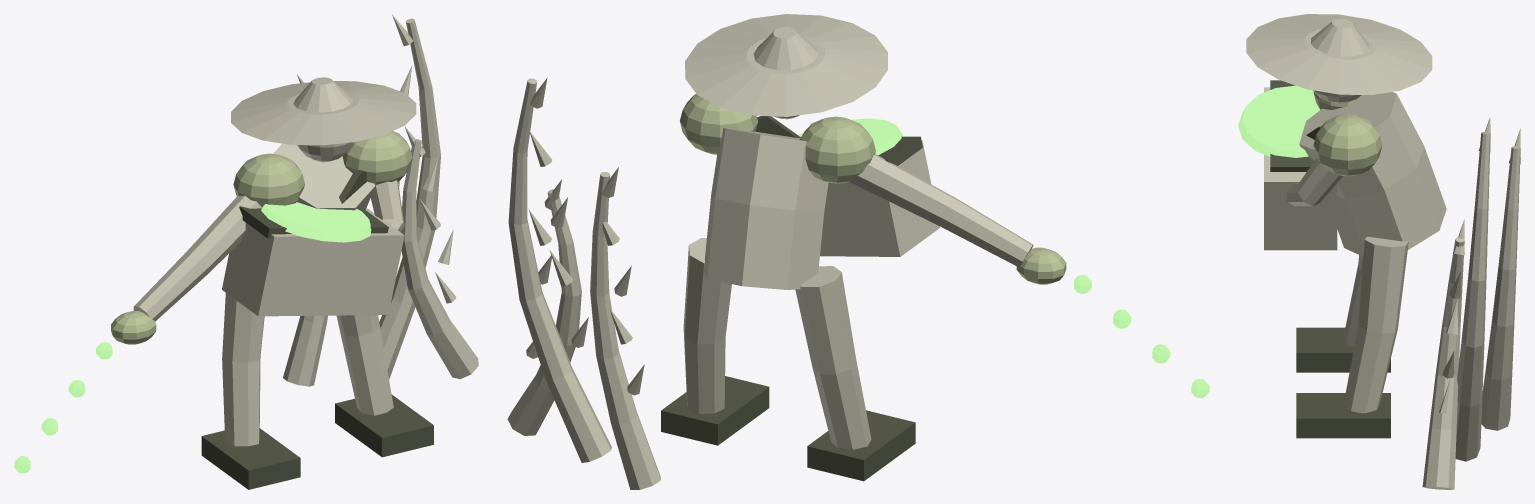
The model's file is sower.glb.
3 renders of one model, left to right at view 1: azimuth 30°, elevation 25°; view 2: azimuth 150°, elevation 25°; view 3: azimuth 270°, elevation 25°, orthographic. The views are drawn at different scales.
Visible parts, largest first — view 1: sower_bone, sower_dark, sower_body, sower_glow; view 2: sower_bone, sower_dark, sower_body, sower_glow; view 3: sower_bone, sower_dark, sower_glow, sower_body.
Boxes of the visible parts, x1=… form: sower_bone: x1=133, y1=14, x2=478, y2=446; sower_dark: x1=201, y1=169, x2=433, y2=489; sower_body: x1=111, y1=131, x2=412, y2=344; sower_glow: x1=14, y1=202, x2=371, y2=473; sower_bone: x1=507, y1=14, x2=1033, y2=489; sower_dark: x1=661, y1=116, x2=922, y2=481; sower_body: x1=680, y1=94, x2=1066, y2=284; sower_glow: x1=798, y1=118, x2=1209, y2=397; sower_bone: x1=1246, y1=14, x2=1520, y2=489; sower_dark: x1=1270, y1=80, x2=1390, y2=438; sower_glow: x1=1238, y1=85, x2=1319, y2=157; sower_body: x1=1313, y1=92, x2=1382, y2=176.
Bounding box in the file's own units: 3.43 × 2.25 × 1.52.
